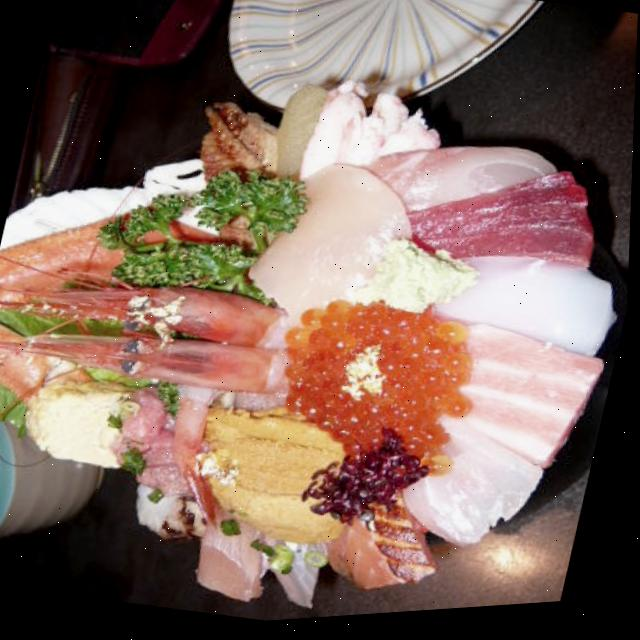刺身生食: (0, 4, 639, 640)
